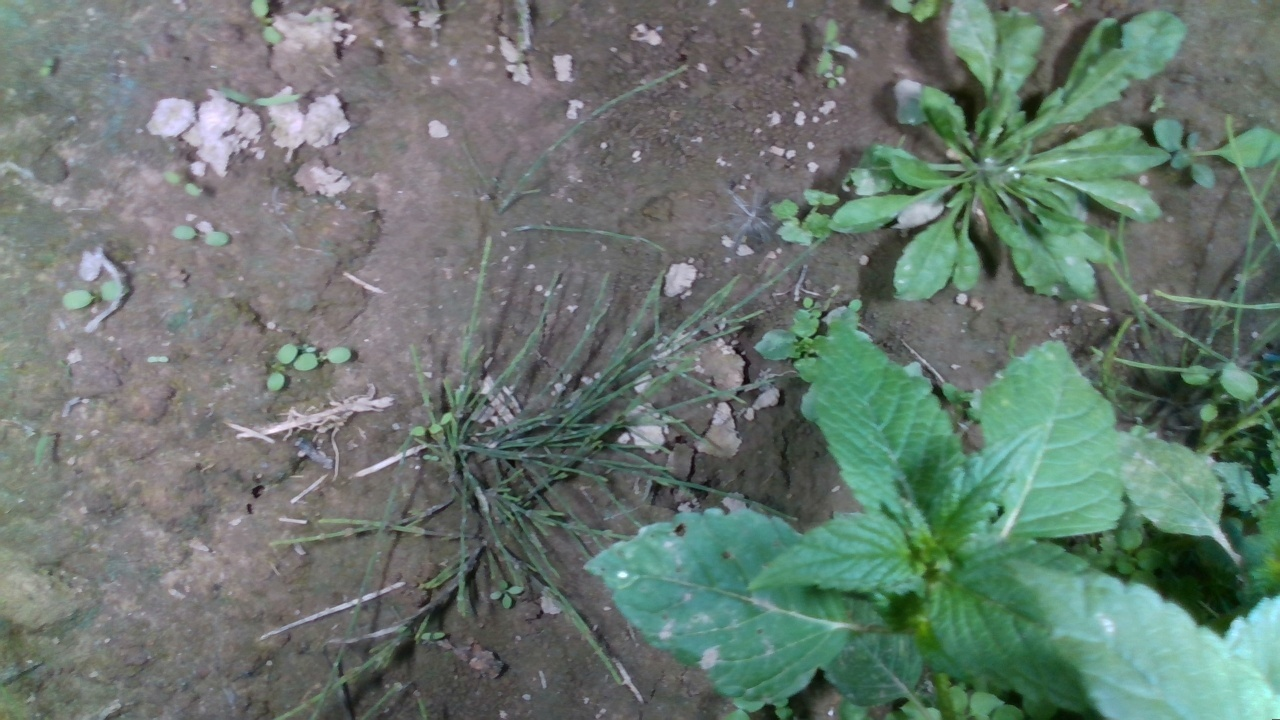weed: (58, 278, 121, 313), (170, 223, 232, 248), (163, 170, 204, 199)
